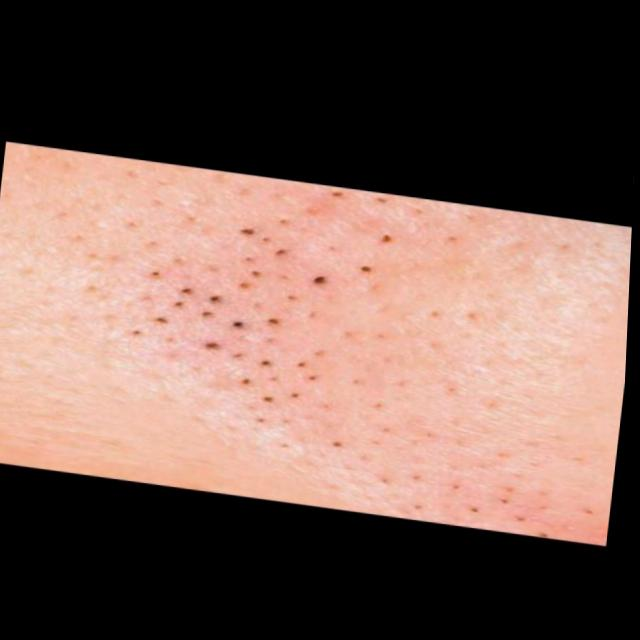blackhead: (114, 200, 424, 434)
